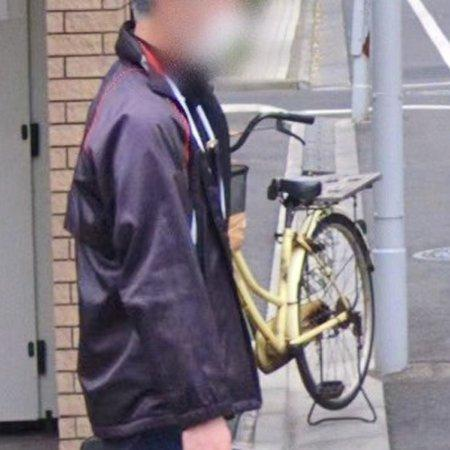bicycles: (232, 173, 381, 424)
